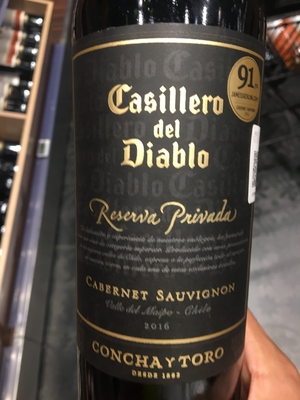casillero del diablo reserva privada cabernet sauvignon: (66, 12, 275, 393)
